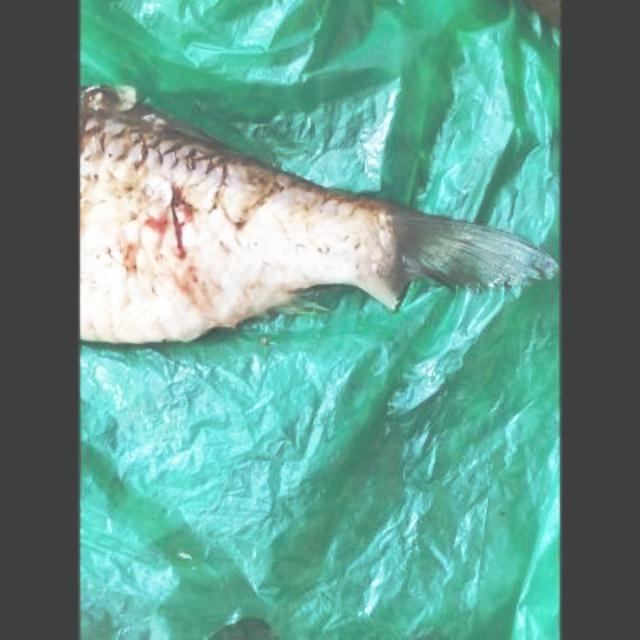Edwardsiella Ictaluri -Bacterial Red Disease-: (80, 85, 557, 341)
